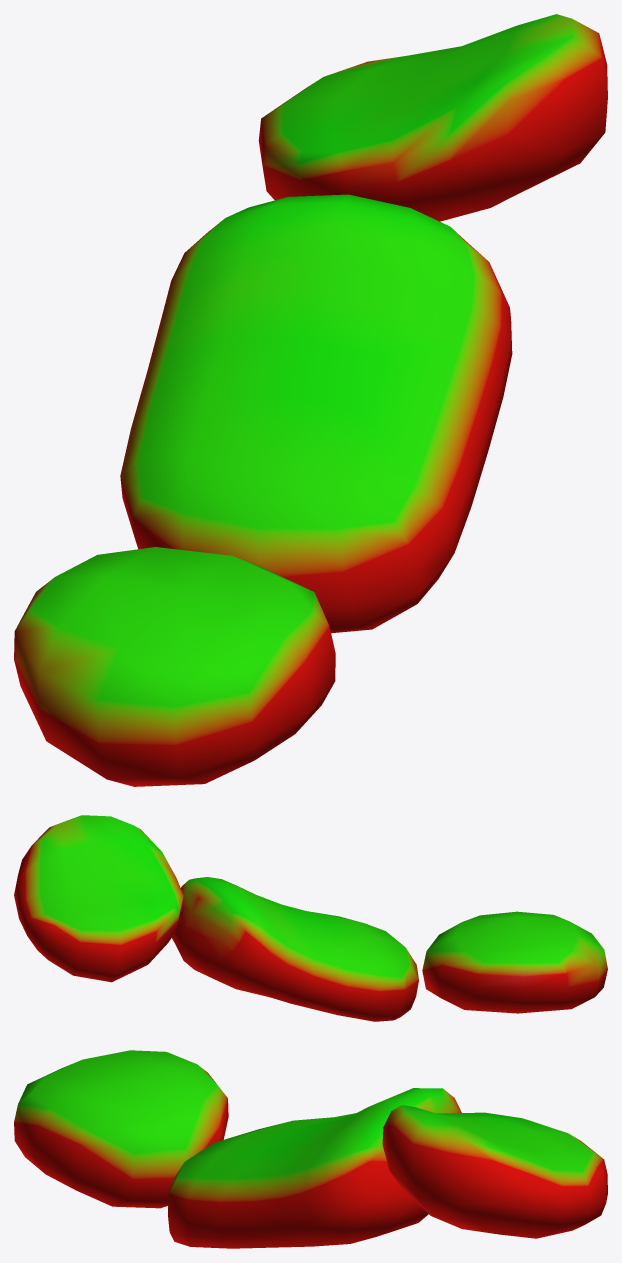
The model's file is Temple-Spiral Rocks.fbx.
The picture shows the model from 3 angles, top to bottom: view 1: azimuth 30°, elevation 25°; view 2: azimuth 150°, elevation 25°; view 3: azimuth 270°, elevation 25°; orthographic projection. The views are drawn at different scales.
Visible parts, largest first — view 1: Temple-Spiral Rocks; view 2: Temple-Spiral Rocks; view 3: Temple-Spiral Rocks.
Part boxes in pixels (x1,y1,x2,y2): Temple-Spiral Rocks: (14, 14, 607, 786); Temple-Spiral Rocks: (14, 815, 607, 1021); Temple-Spiral Rocks: (14, 1050, 607, 1248).
Bounding box in the file's own units: 1634 × 735 × 1513.
